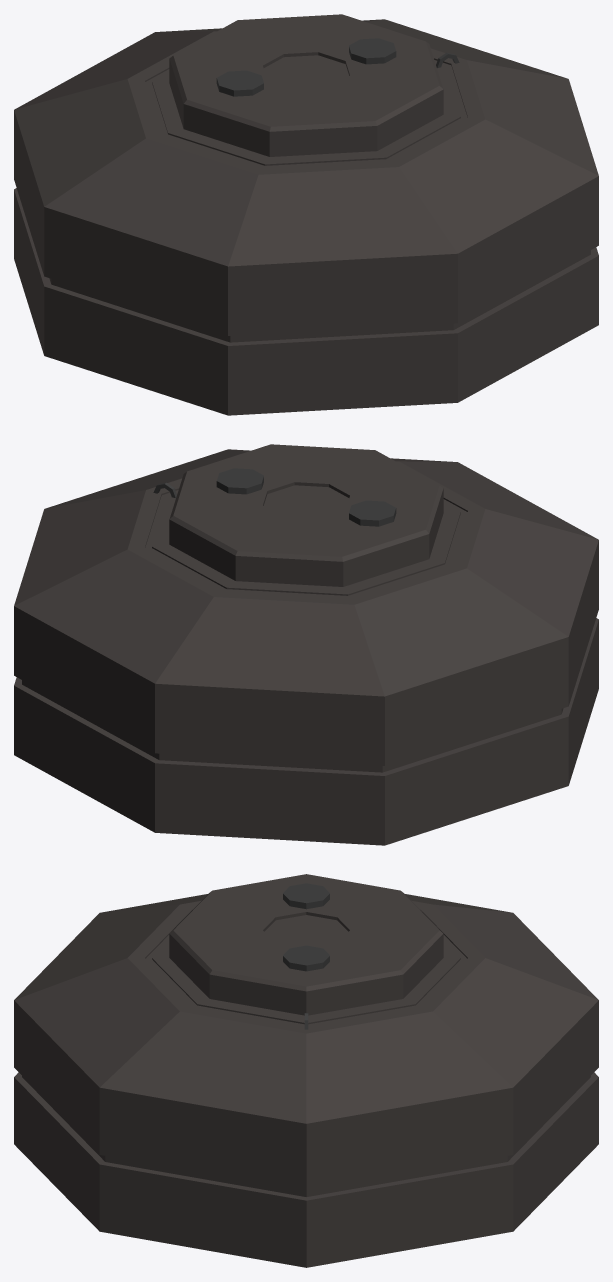
The model's file is Mine_02.fbx.
3 views of the same model, one above another, from view 1: azimuth 30°, elevation 25°; view 2: azimuth 150°, elevation 25°; view 3: azimuth 270°, elevation 25° (orthographic). The views are drawn at different scales.
Visible parts, largest first — view 1: Mine_02; view 2: Mine_02; view 3: Mine_02.
Boxes of the visible parts, x1,y1,x2,y2 form: Mine_02: (14, 14, 598, 415); Mine_02: (14, 444, 598, 845); Mine_02: (14, 874, 598, 1267).
Bounding box in the file's own units: 0.2763 × 0.1146 × 0.2763.
